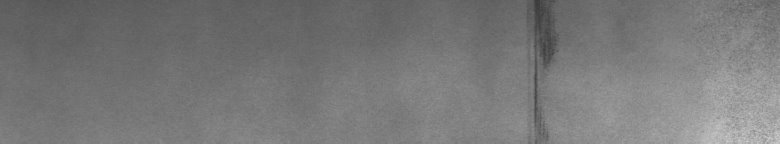hd: (527, 4, 560, 136)
